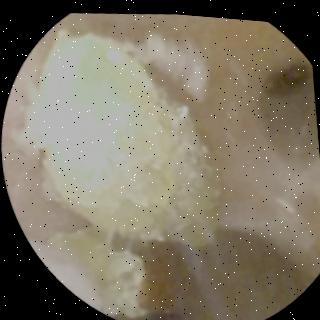stone: (27, 26, 216, 314)
tissue: (71, 10, 320, 320), (3, 28, 97, 298)
